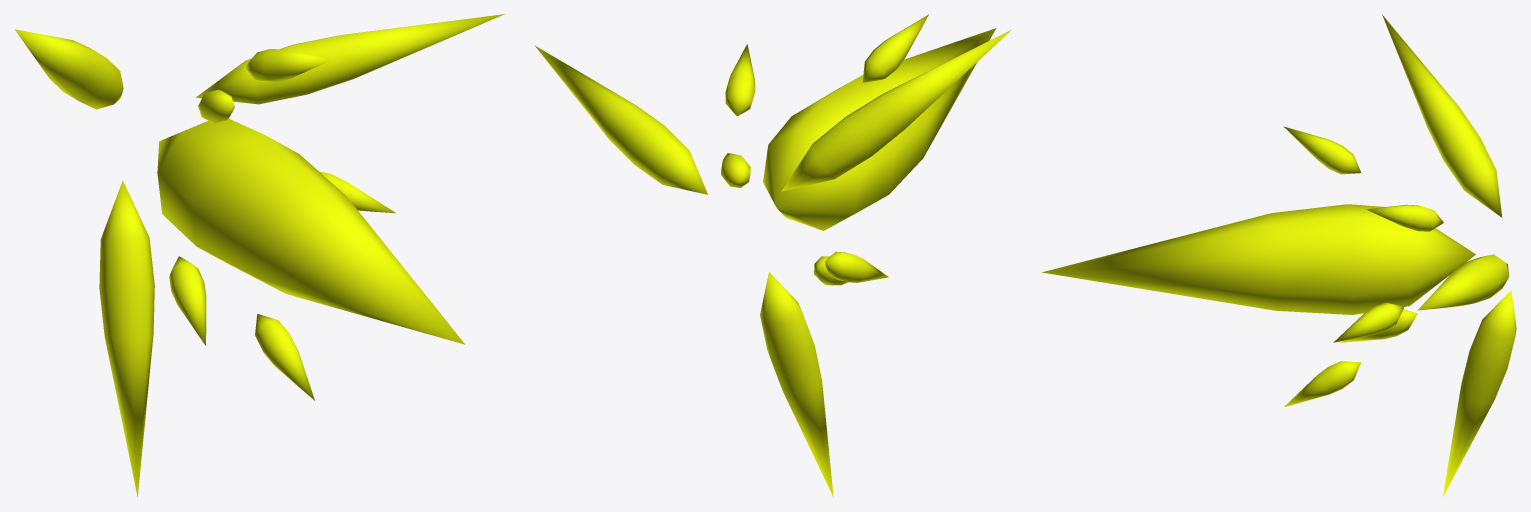
Rendered from Muzzle_flash.glb.
The picture shows the model from 3 angles, left to right: view 1: azimuth 30°, elevation 25°; view 2: azimuth 150°, elevation 25°; view 3: azimuth 270°, elevation 25°; orthographic projection. The views are drawn at different scales.
Visible parts, largest first — view 1: muzzle.001; view 2: muzzle.001; view 3: muzzle.001.
Part boxes in pixels (bbox=[...]): muzzle.001: bbox=[15, 14, 504, 496]; muzzle.001: bbox=[535, 14, 1011, 497]; muzzle.001: bbox=[1042, 14, 1516, 497].
Size of the model in its own units: 0.4284 by 0.4276 by 0.4365.
